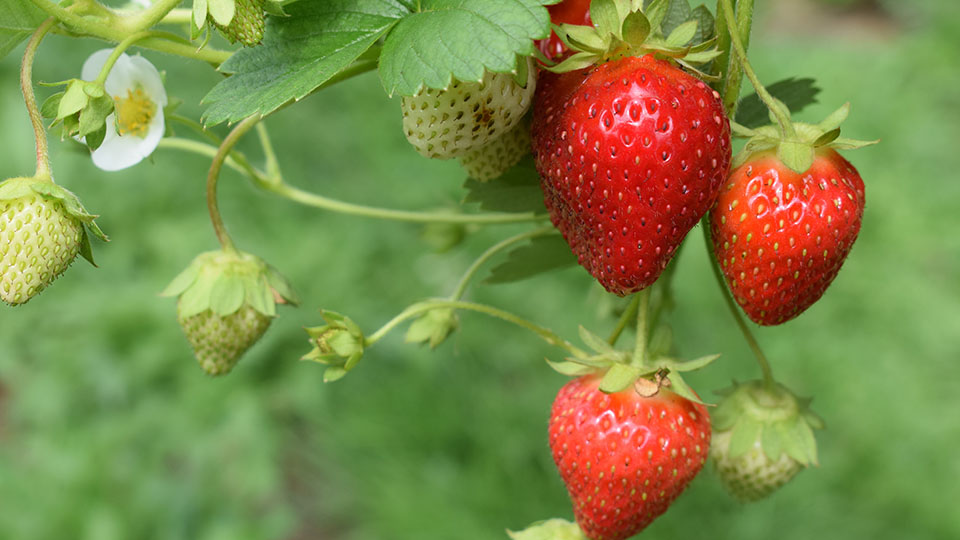ripe: (526, 43, 740, 297), (708, 130, 872, 329), (548, 361, 712, 540), (533, 1, 619, 71)
unripe: (386, 9, 536, 156), (708, 369, 819, 512), (180, 240, 290, 378), (0, 173, 89, 311), (207, 1, 277, 48)
